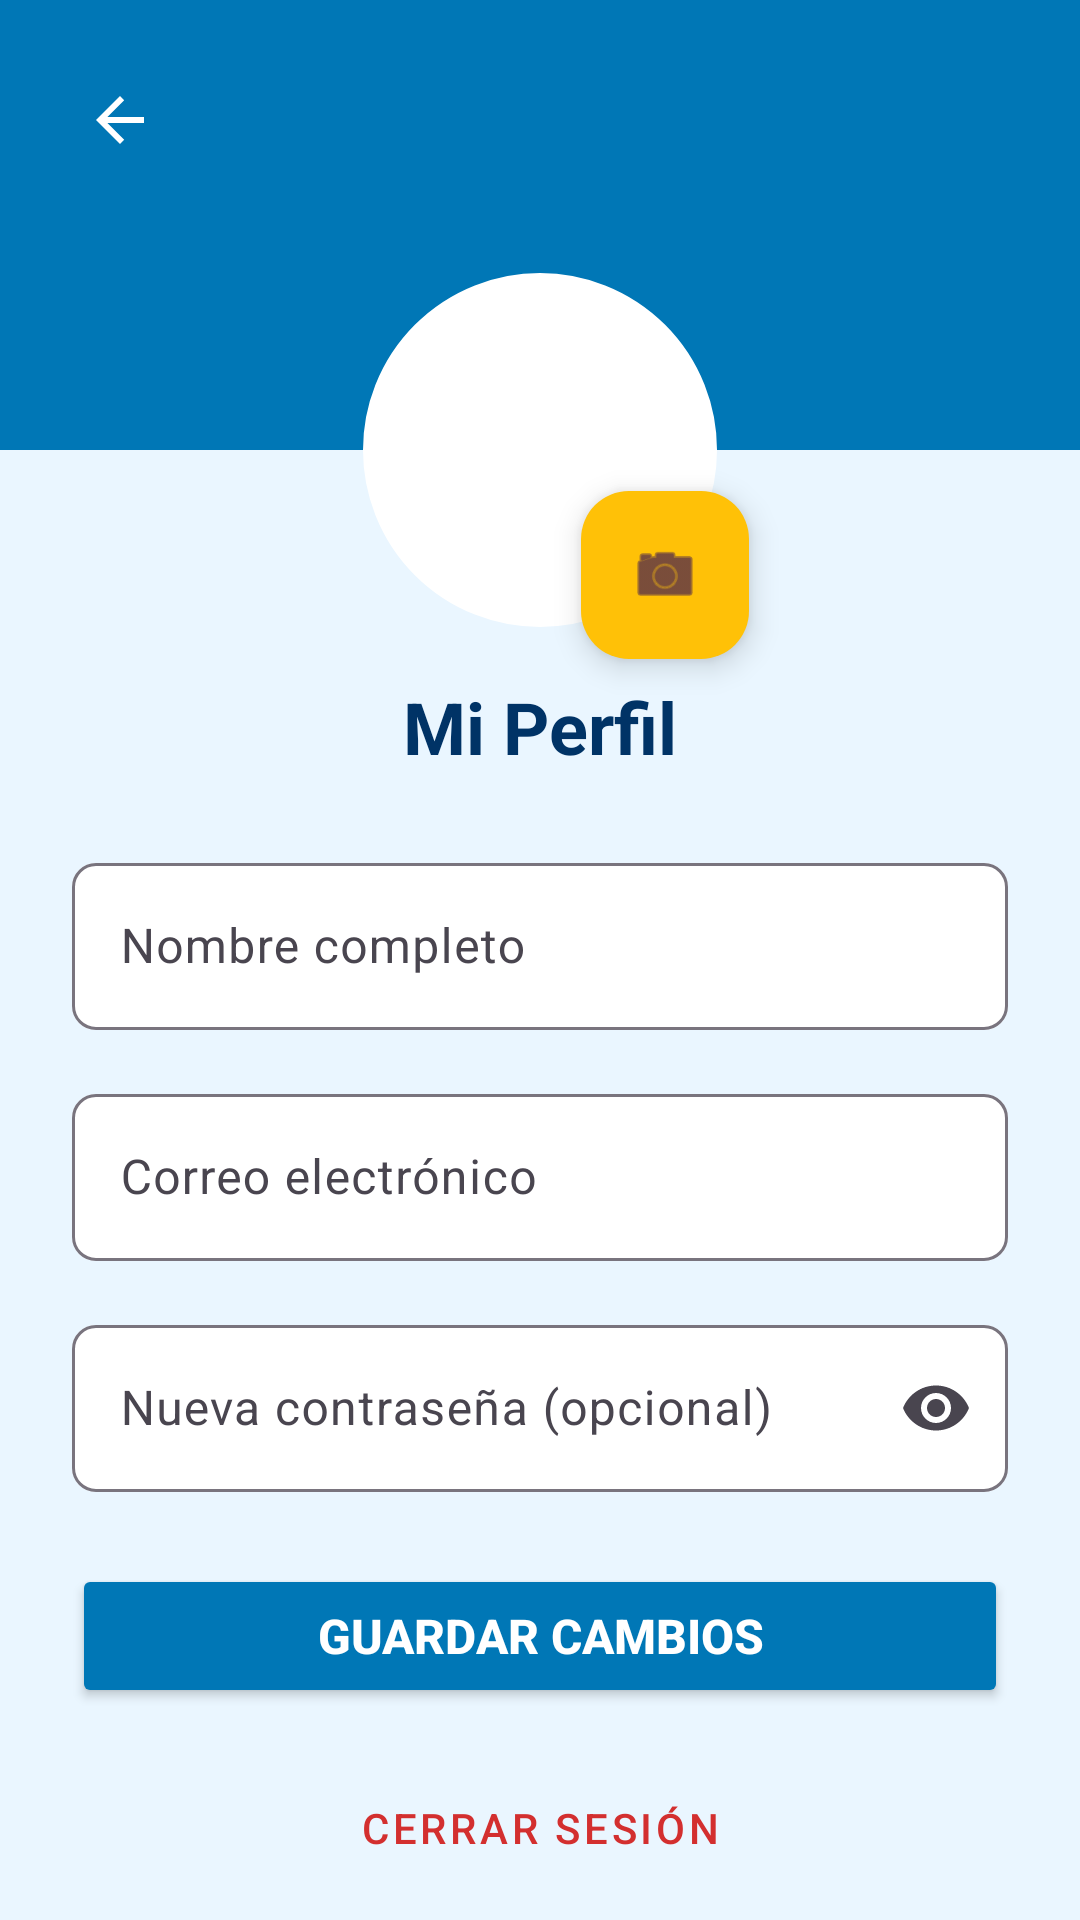

Screen size 1080*1920. Icon name, then its box in pixels as box(x1, y1, x2, y2):
Cambiar foto de perfil: box(581, 491, 749, 659)
Volver: box(96, 96, 144, 144)
